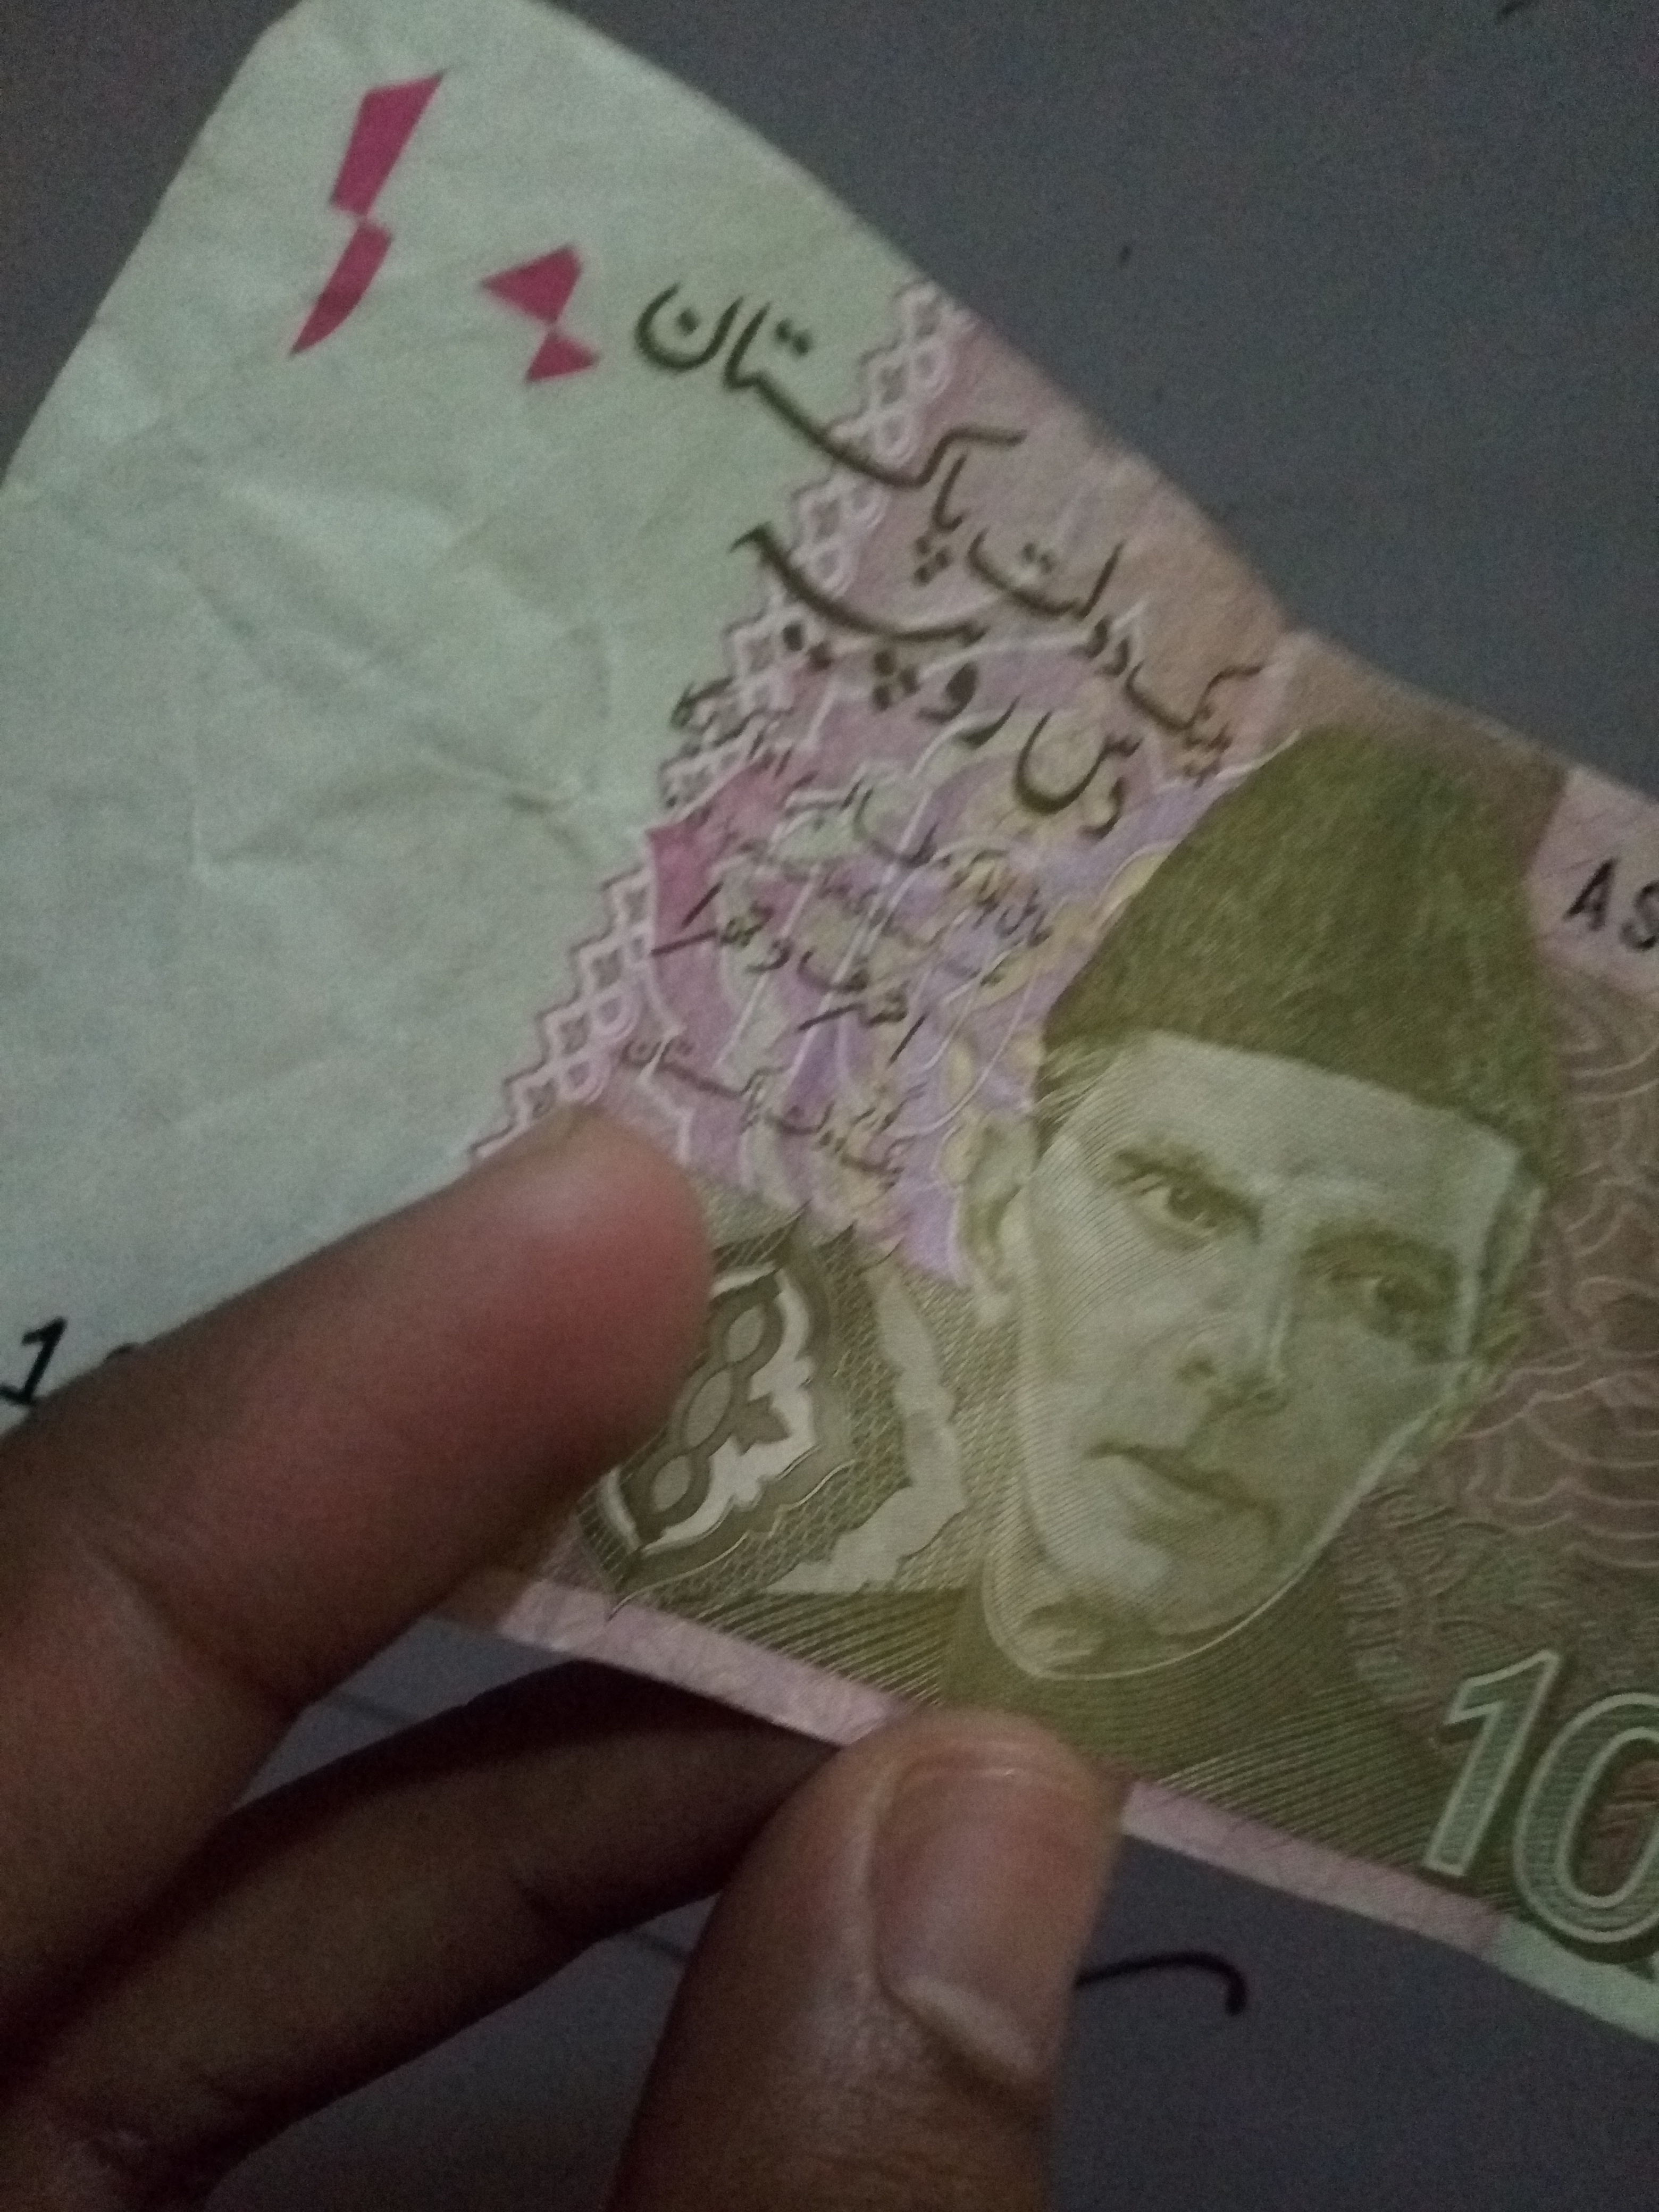10 rupee: (44, 33, 1659, 2013)
